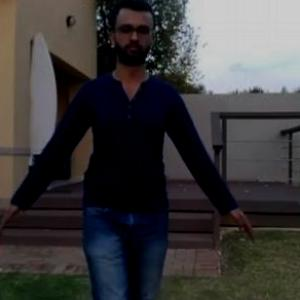land: (3, 36, 228, 299)
